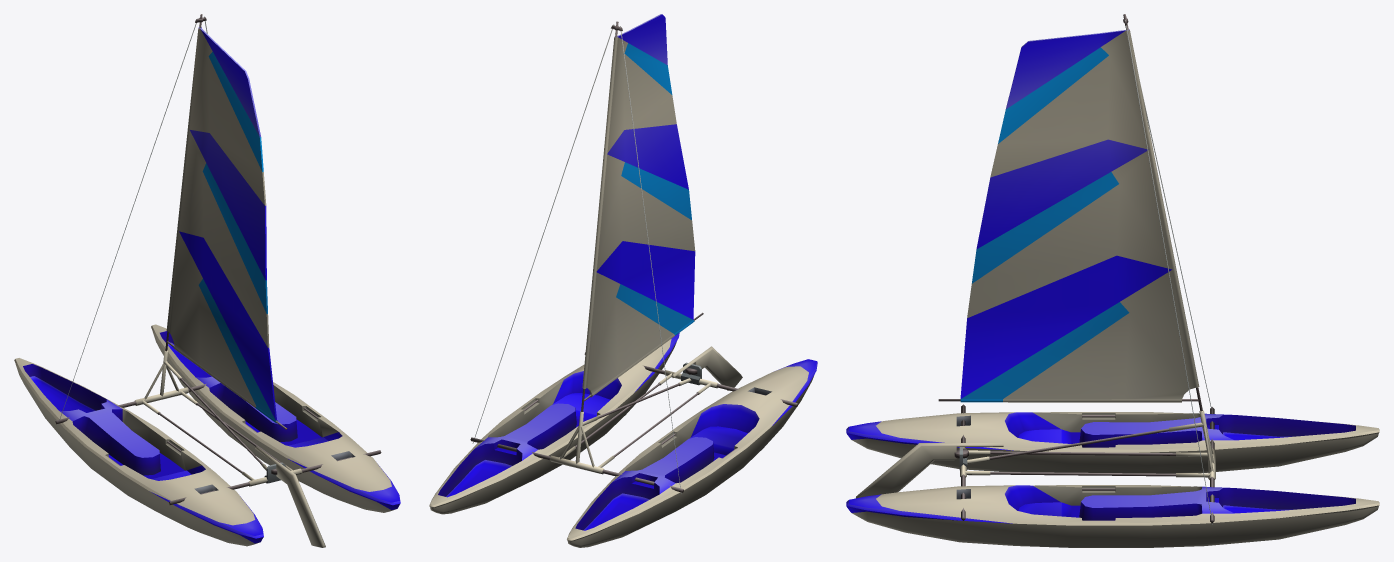
Rendered from Catamaran_1C.fbx.
3 views of the same model, side by side, from view 1: azimuth 30°, elevation 25°; view 2: azimuth 150°, elevation 25°; view 3: azimuth 270°, elevation 25° (orthographic). The views are drawn at different scales.
Parts seen in each view (by area): view 1: Catamaran_1C, Catamaran_1C_Sail, Catamaran_1C_Rudder; view 2: Catamaran_1C, Catamaran_1C_Sail, Catamaran_1C_Rudder; view 3: Catamaran_1C_Sail, Catamaran_1C, Catamaran_1C_Rudder.
Boxes of the visible parts, x1=… form: Catamaran_1C: x1=14, y1=17, x2=400, y2=546; Catamaran_1C_Sail: x1=165, y1=14, x2=287, y2=429; Catamaran_1C_Rudder: x1=255, y1=446, x2=325, y2=547; Catamaran_1C: x1=429, y1=24, x2=817, y2=547; Catamaran_1C_Sail: x1=581, y1=14, x2=703, y2=411; Catamaran_1C_Rudder: x1=671, y1=346, x2=742, y2=390; Catamaran_1C_Sail: x1=938, y1=14, x2=1202, y2=411; Catamaran_1C: x1=846, y1=18, x2=1379, y2=547; Catamaran_1C_Rudder: x1=856, y1=443, x2=1003, y2=498.
Bounding box in the file's own units: 263 × 537 × 528.
